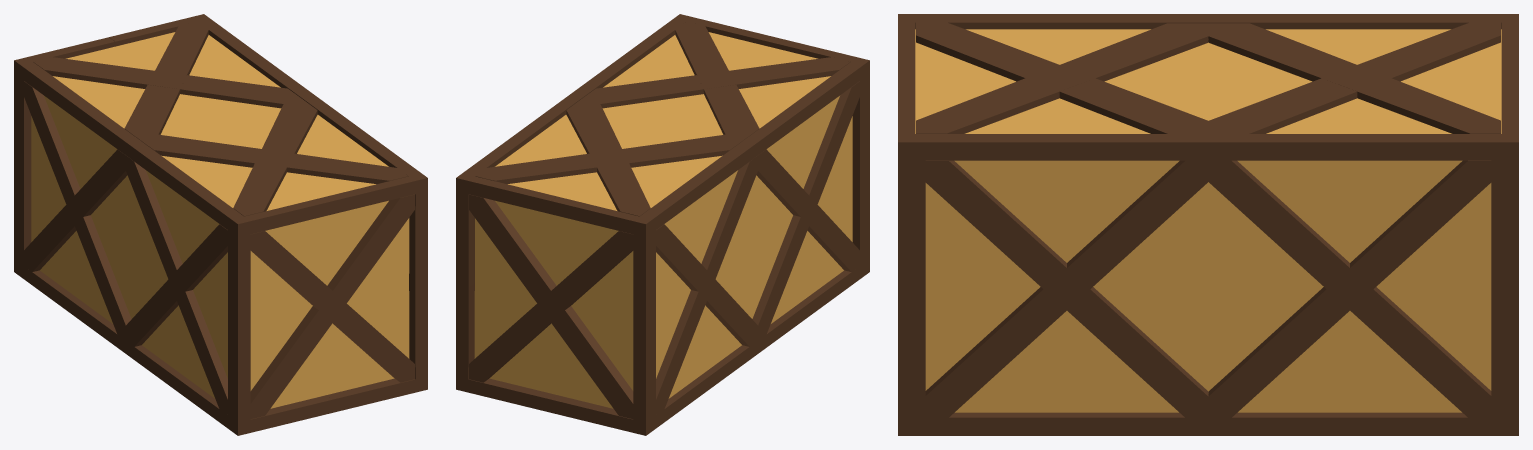
3 renders of one model, left to right at view 1: azimuth 30°, elevation 25°; view 2: azimuth 150°, elevation 25°; view 3: azimuth 270°, elevation 25°, orthographic. The views are drawn at different scales.
Visible parts, largest first — view 1: box; view 2: box; view 3: box.
Part boxes in pixels (<box>): box: <box>14,14,427,435</box>; box: <box>456,14,869,435</box>; box: <box>898,14,1518,435</box>.
Size of the model in its own units: 217 by 231 by 443.
